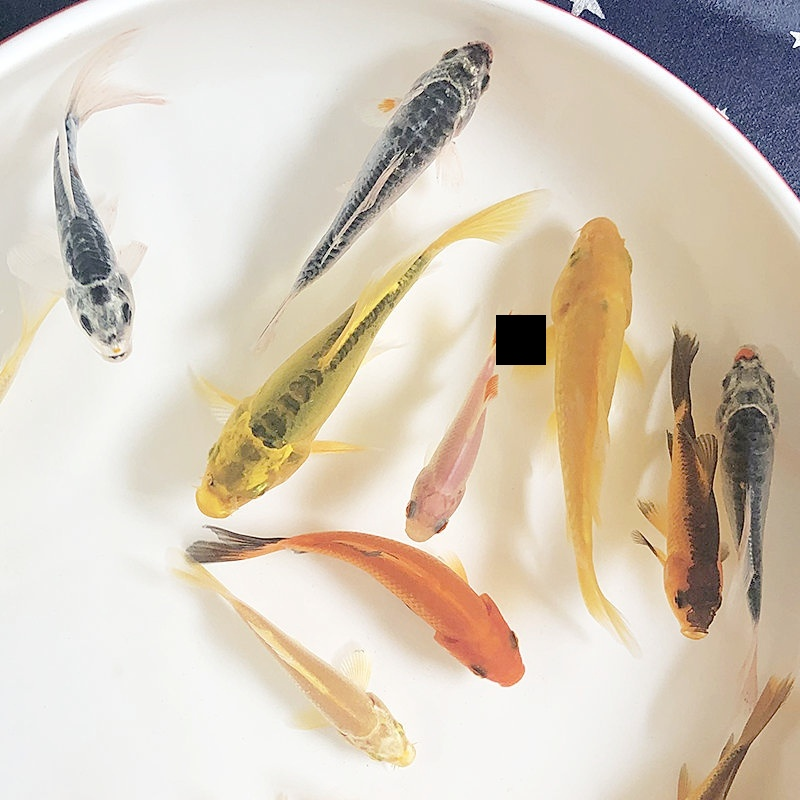fry: (523, 211, 654, 648), (182, 278, 392, 522), (277, 522, 556, 698), (192, 574, 427, 774), (280, 38, 506, 242), (33, 78, 150, 378), (712, 328, 799, 626), (389, 339, 511, 544), (656, 332, 733, 656), (671, 684, 796, 800)
